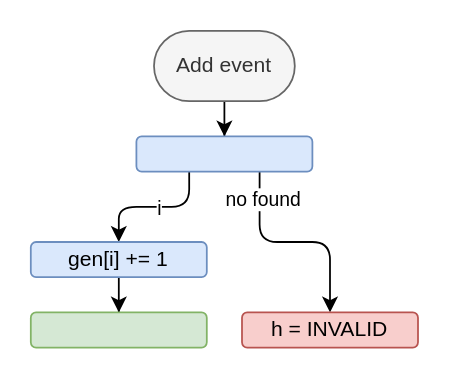
Image size: 449x378. Some labels were removed from this diagram. Here are the shapes that lost their labels. From the top down, the centre of each, then its label:
At point 223,153: "Search free space".
At point 118,329: "h = gen[i] << 8 | i".
